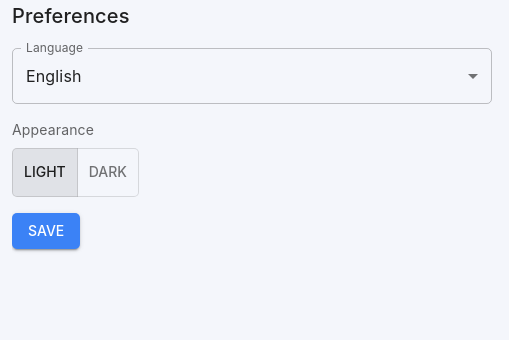
Test case: PreferencesSection › shows error banner when save fails
The width and height of the screenshot is (509, 340).
Click the button "Save". click: (46, 231)
box: x1=12 y1=212 x2=80 y2=249
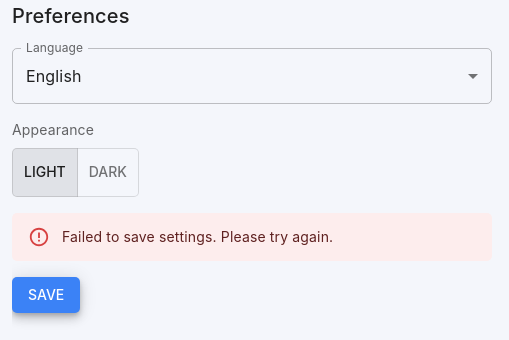
Check: the text "Failed to save settings. Please try again." is shown, box x1=62 y1=228 x2=333 y2=244
